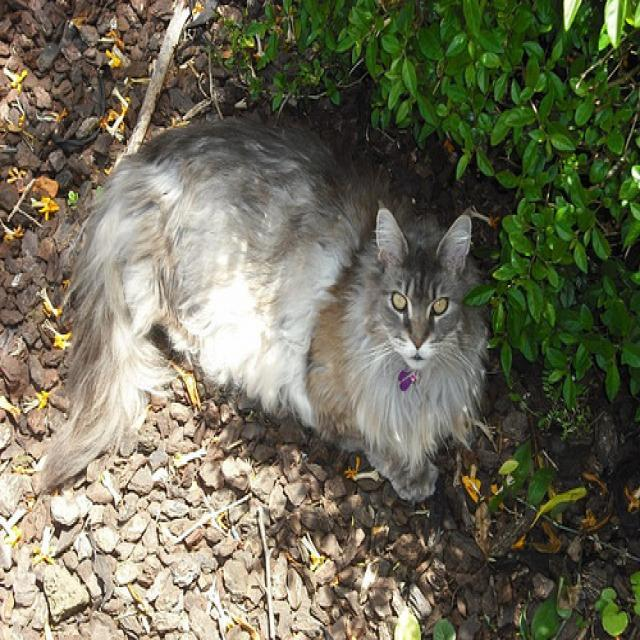Maine_Coon: (374, 200, 470, 365)
